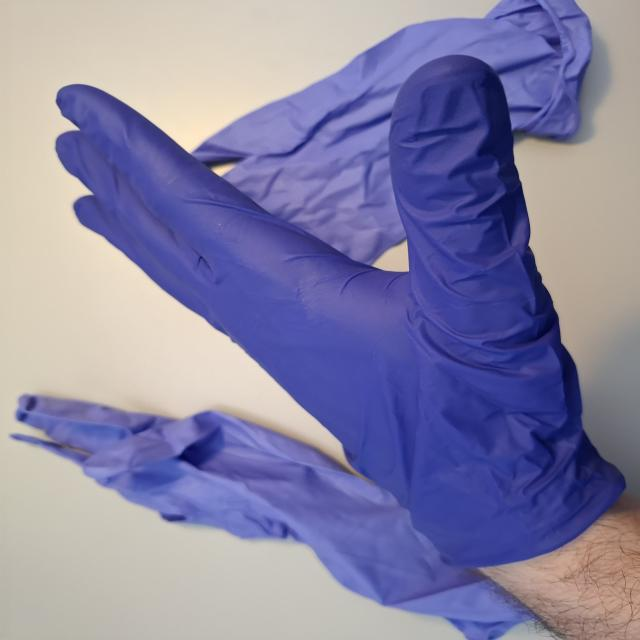glove_on: (51, 53, 640, 580)
